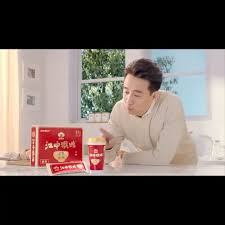box: (29, 124, 84, 165)
cup: (88, 139, 105, 172)
